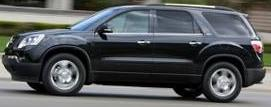backlight: (245, 34, 267, 59)
front_view: (5, 31, 50, 98)
headlight: (19, 33, 46, 57)
side_glass: (97, 6, 212, 38)
